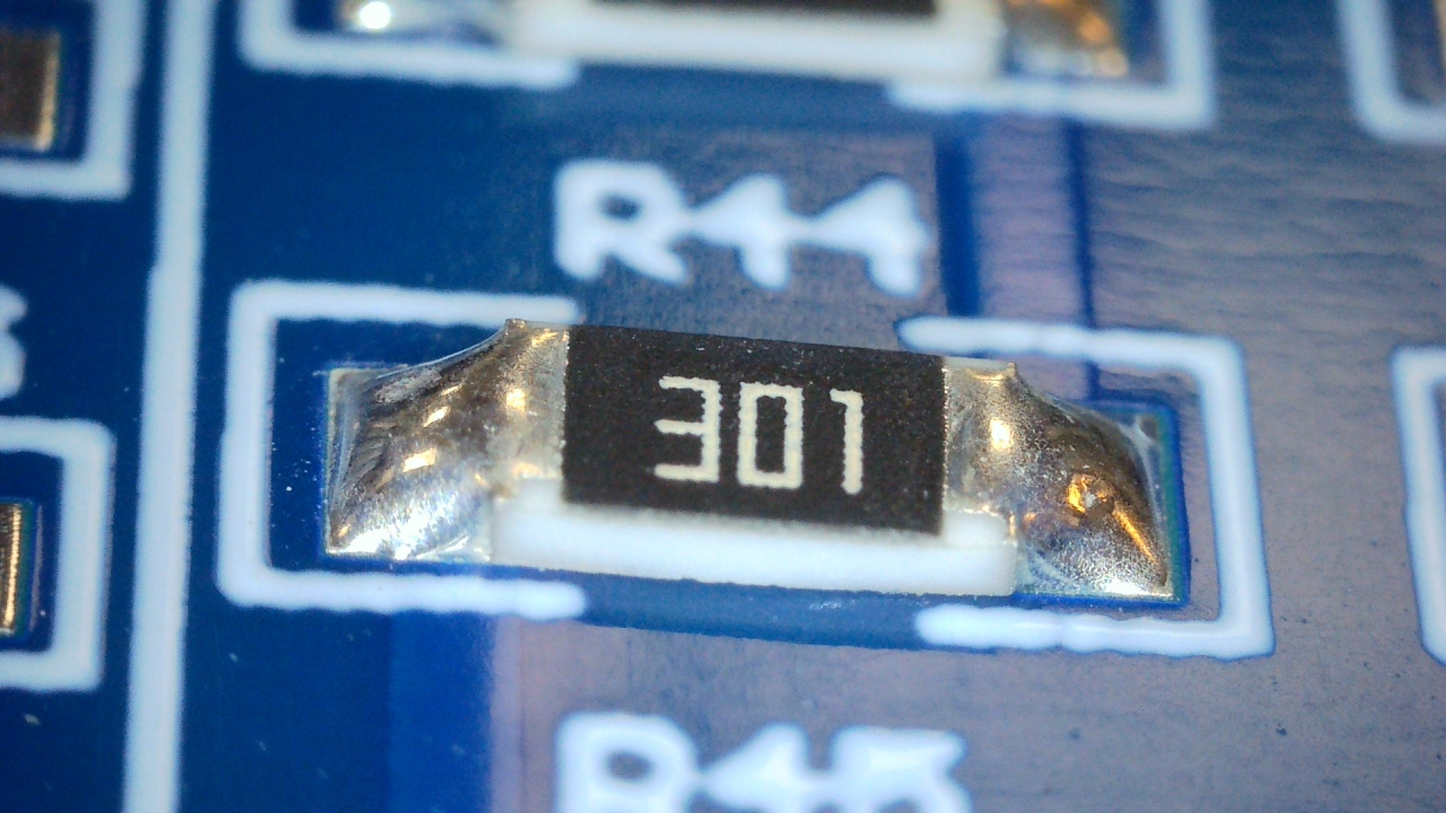NG: (944, 356, 1167, 587)
OK: (327, 318, 568, 552)
